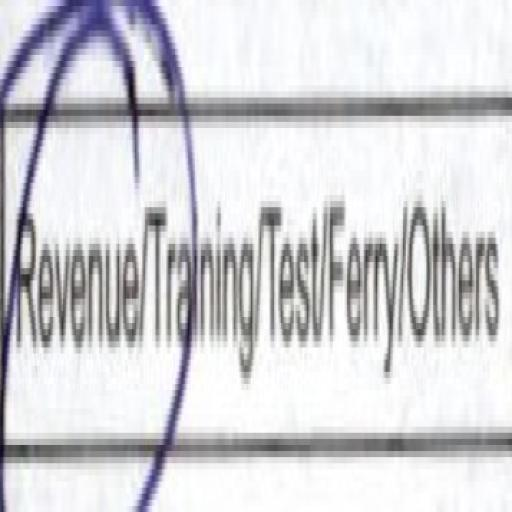check: (2, 6, 150, 512)
